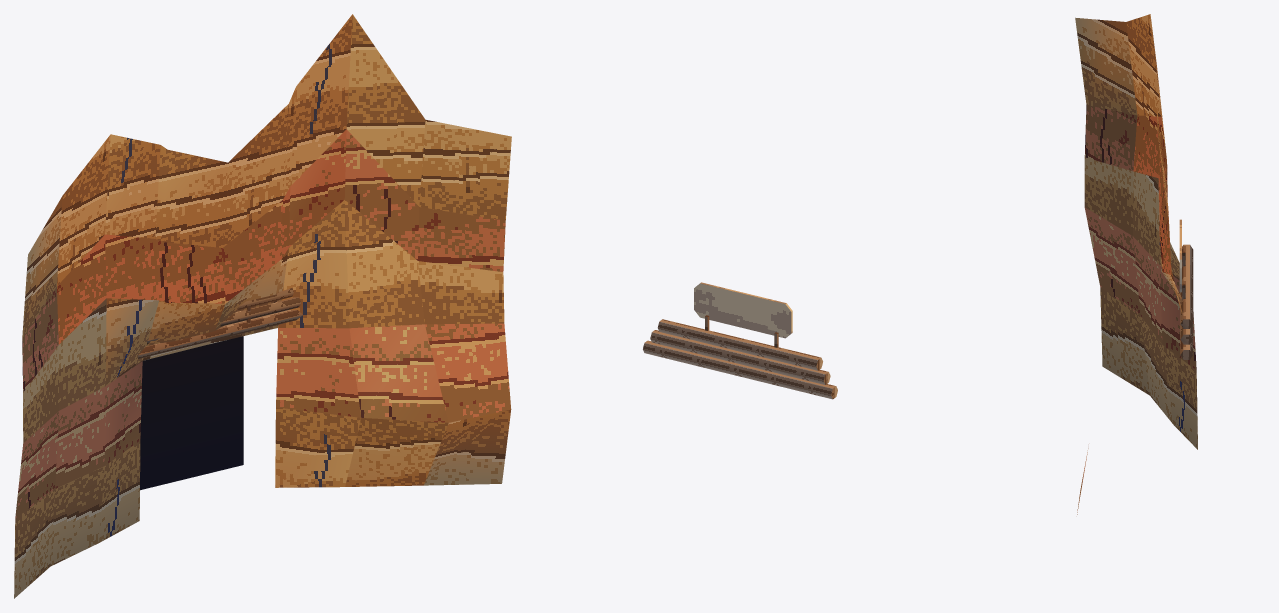
File: wmine.portal.glb
3 views of the same model, side by side, from view 1: azimuth 30°, elevation 25°; view 2: azimuth 150°, elevation 25°; view 3: azimuth 270°, elevation 25° (orthographic). The views are drawn at different scales.
Visible parts, largest first — view 1: kit_shell_face, kit_card_depth, kit_lagging; view 2: kit_lagging, kit_trim; view 3: kit_shell_face, kit_lagging.
Boxes of the visible parts, left/top/right/bottom form: kit_shell_face: left=14, top=14, right=511, bottom=598; kit_card_depth: left=140, top=336, right=243, bottom=490; kit_lagging: left=138, top=288, right=302, bottom=358; kit_lagging: left=643, top=319, right=837, bottom=399; kit_trim: left=694, top=282, right=792, bottom=338; kit_shell_face: left=1075, top=14, right=1197, bottom=514; kit_lagging: left=1180, top=244, right=1193, bottom=359.
Bounding box in the file's own units: 10 × 9.5 × 3.45.
7 materials, 7 textured.
